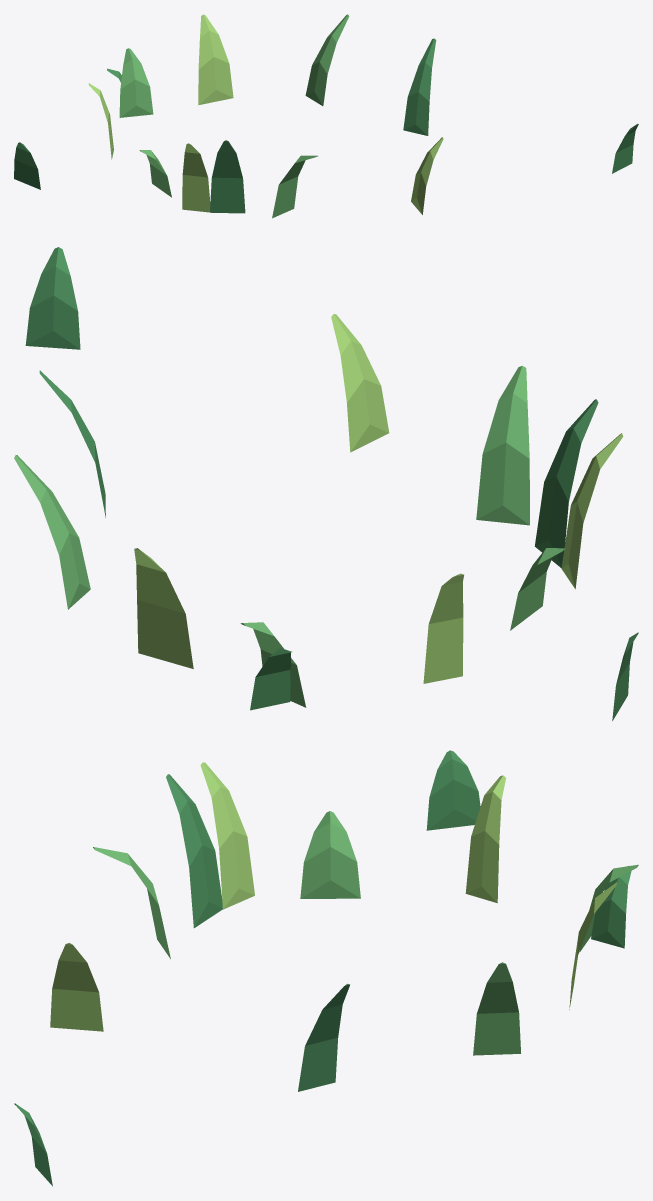
Rendered from grass_short_d.glb.
3 views of the same model, one above another, from view 1: azimuth 30°, elevation 25°; view 2: azimuth 150°, elevation 25°; view 3: azimuth 270°, elevation 25° (orthographic). The views are drawn at different scales.
Visible parts, largest first — view 1: GrassShortD; view 2: GrassShortD; view 3: GrassShortD.
Boxes of the visible parts, <box> form: GrassShortD: <box>14,14,638,218</box>; GrassShortD: <box>14,247,638,720</box>; GrassShortD: <box>14,750,638,1186</box>.
Size of the model in its own units: 0.8689 by 0.1477 by 0.6262.
